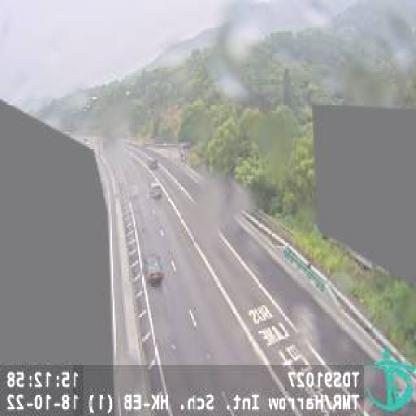Car: (145, 250, 162, 286), (148, 179, 161, 199), (150, 157, 160, 171)
